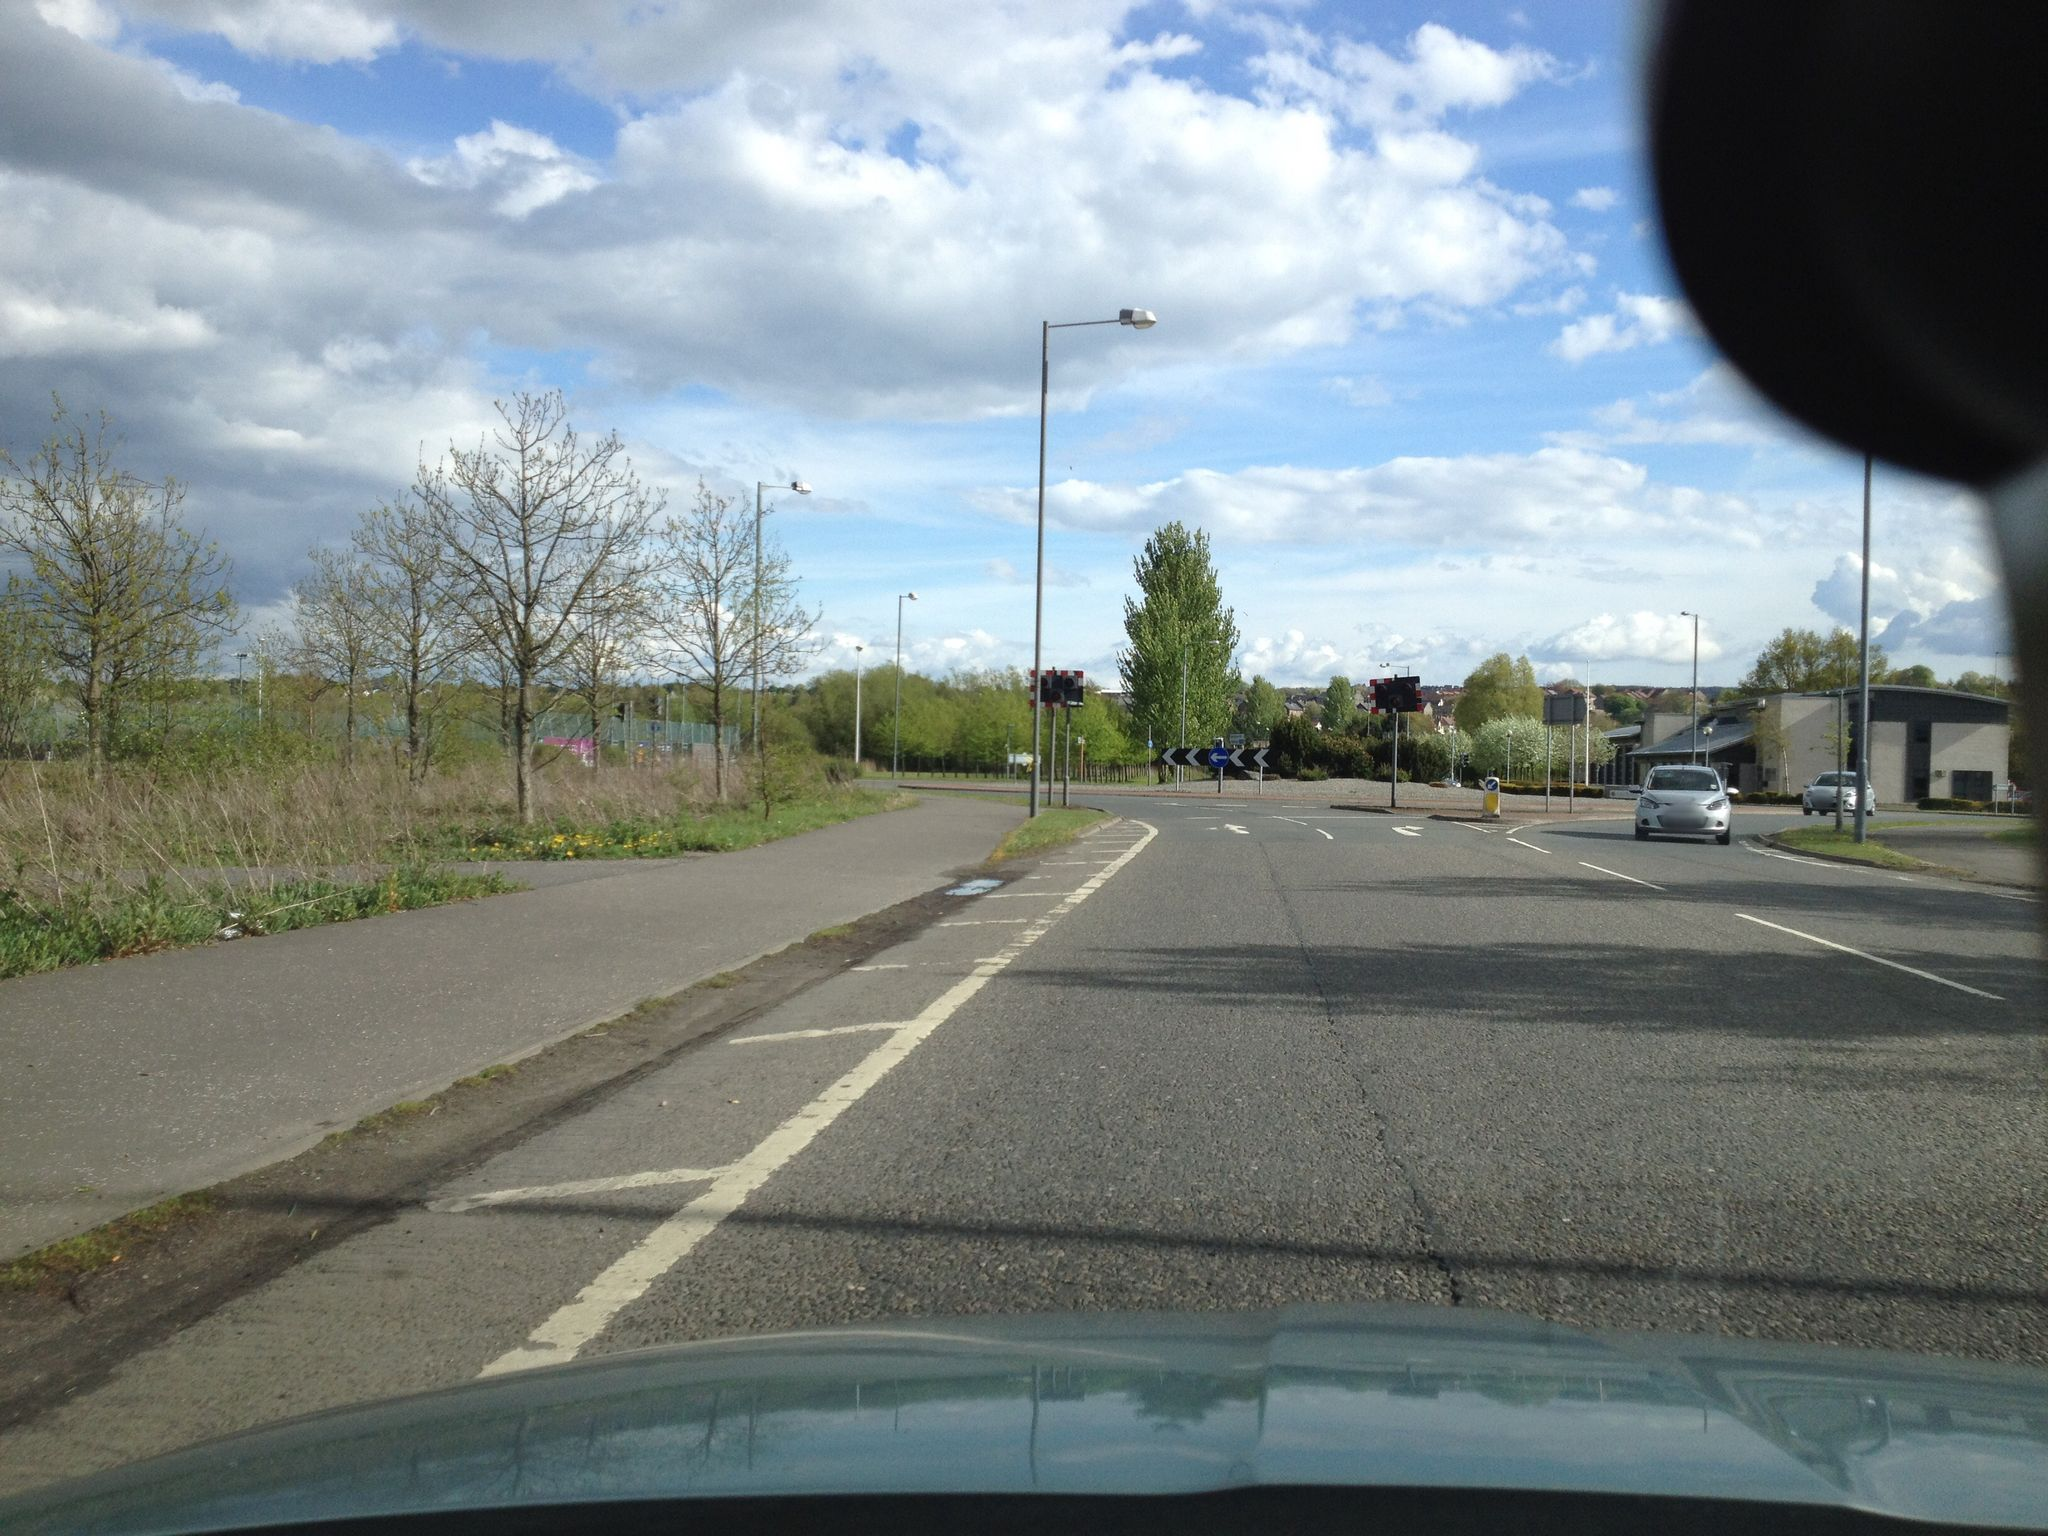car: (1627, 765, 1738, 845), (1801, 770, 1875, 815)
